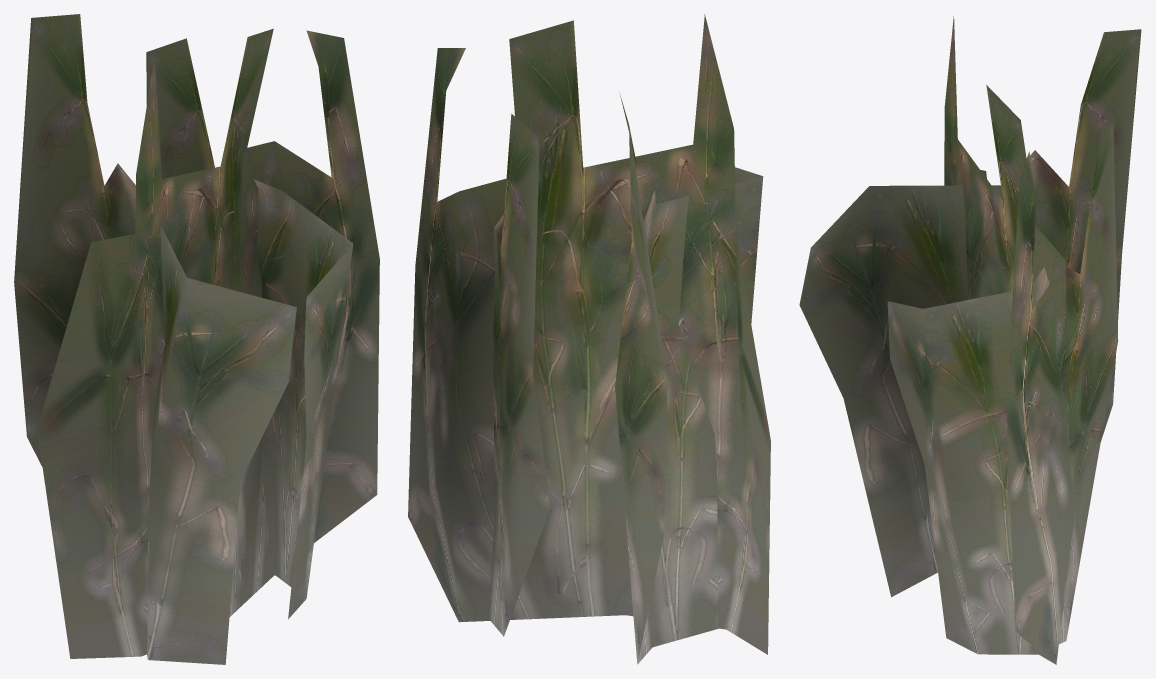
The model's file is proc_sml_reeds_01c.FBX.
3 views of the same model, side by side, from view 1: azimuth 30°, elevation 25°; view 2: azimuth 150°, elevation 25°; view 3: azimuth 270°, elevation 25° (orthographic). The views are drawn at different scales.
Parts seen in each view (by area): view 1: proc_sml_reeds_01c; view 2: proc_sml_reeds_01c; view 3: proc_sml_reeds_01c.
Boxes of the visible parts, left/top/right/bottom form: proc_sml_reeds_01c: left=14, top=14, right=379, bottom=664; proc_sml_reeds_01c: left=408, top=14, right=770, bottom=664; proc_sml_reeds_01c: left=799, top=16, right=1141, bottom=664.
Bounding box in the file's own units: 1.06 × 0.9521 × 1.74.
1 material, 1 textured.
